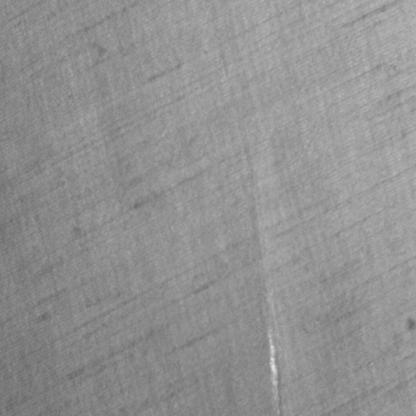thread error: (241, 140, 284, 416)
